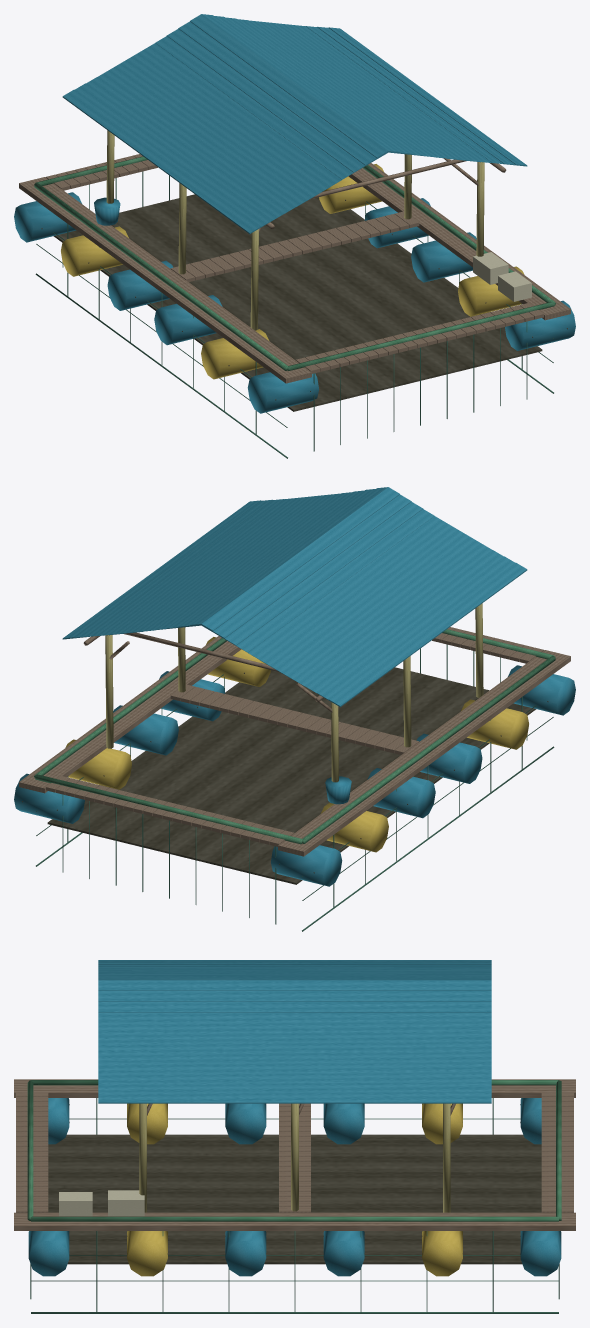
File: bung-raft-2-blue.glb
3 views of the same model, one above another, from view 1: azimuth 30°, elevation 25°; view 2: azimuth 150°, elevation 25°; view 3: azimuth 270°, elevation 25° (orthographic). The views are drawn at different scales.
Visible parts, largest first — view 1: bung-raft-2-blue; view 2: bung-raft-2-blue; view 3: bung-raft-2-blue.
Part boxes in pixels (box(x1,y1,x2,y2)): bung-raft-2-blue: box(14, 14, 575, 458); bung-raft-2-blue: box(14, 487, 575, 931); bung-raft-2-blue: box(14, 960, 575, 1313).
Bounding box in the file's own units: 5.34 × 4.17 × 8.
Materials: 1 (1 with a texture image).
